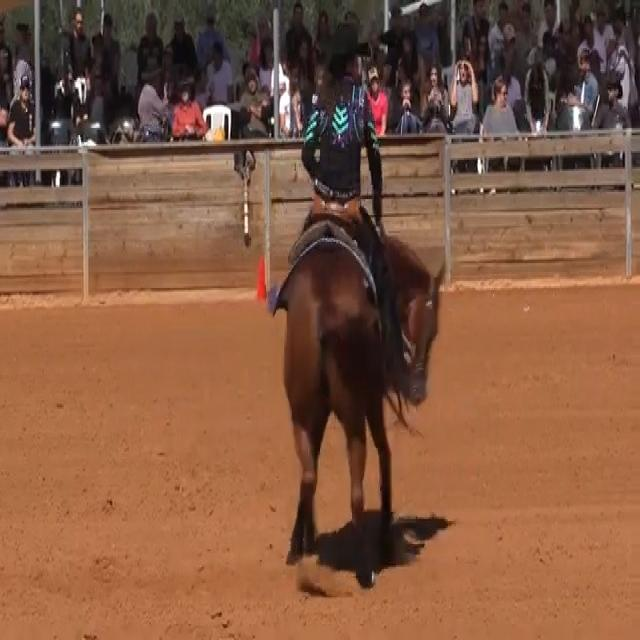horse: (271, 215, 441, 578)
